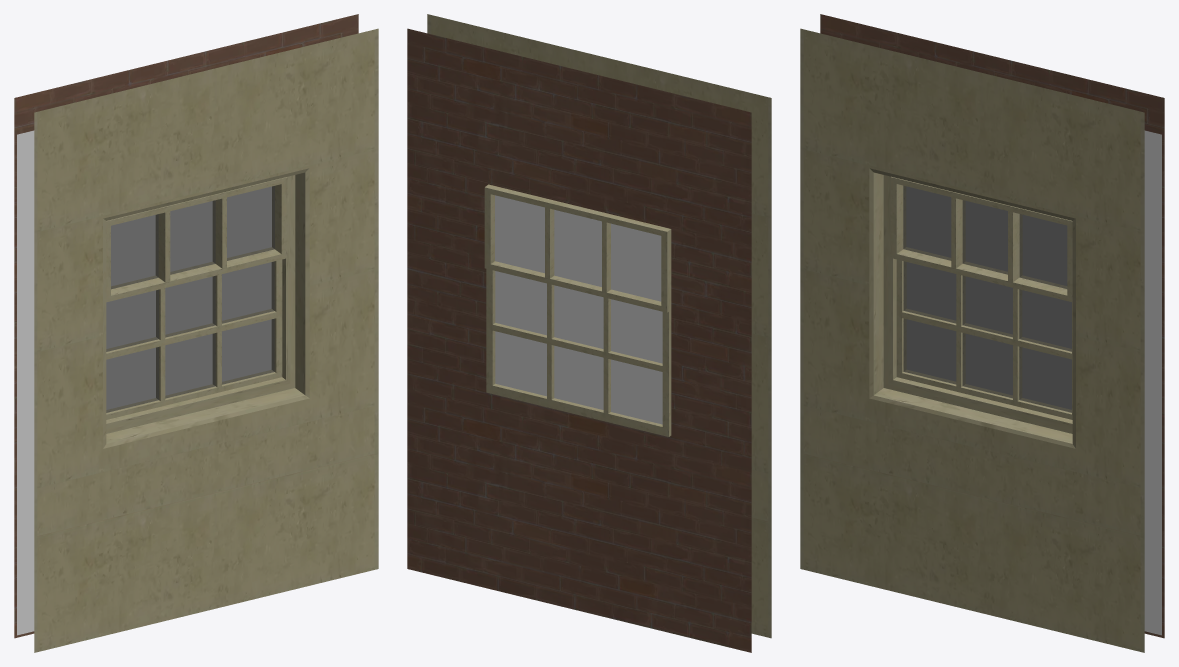
The model's file is Trim_Window.glb.
The picture shows the model from 3 angles, left to right: view 1: azimuth 30°, elevation 25°; view 2: azimuth 150°, elevation 25°; view 3: azimuth 330°, elevation 25°; orthographic projection.
Visible parts, largest first — view 1: Trim_Window; view 2: Trim_Window; view 3: Trim_Window.
Part boxes in pixels (x1,y1,x2,y2): Trim_Window: (14,14,378,652); Trim_Window: (407,14,771,652); Trim_Window: (800,14,1164,652).
Size of the model in its own units: 2 by 3 by 0.2397.
4 materials, 2 textured.
